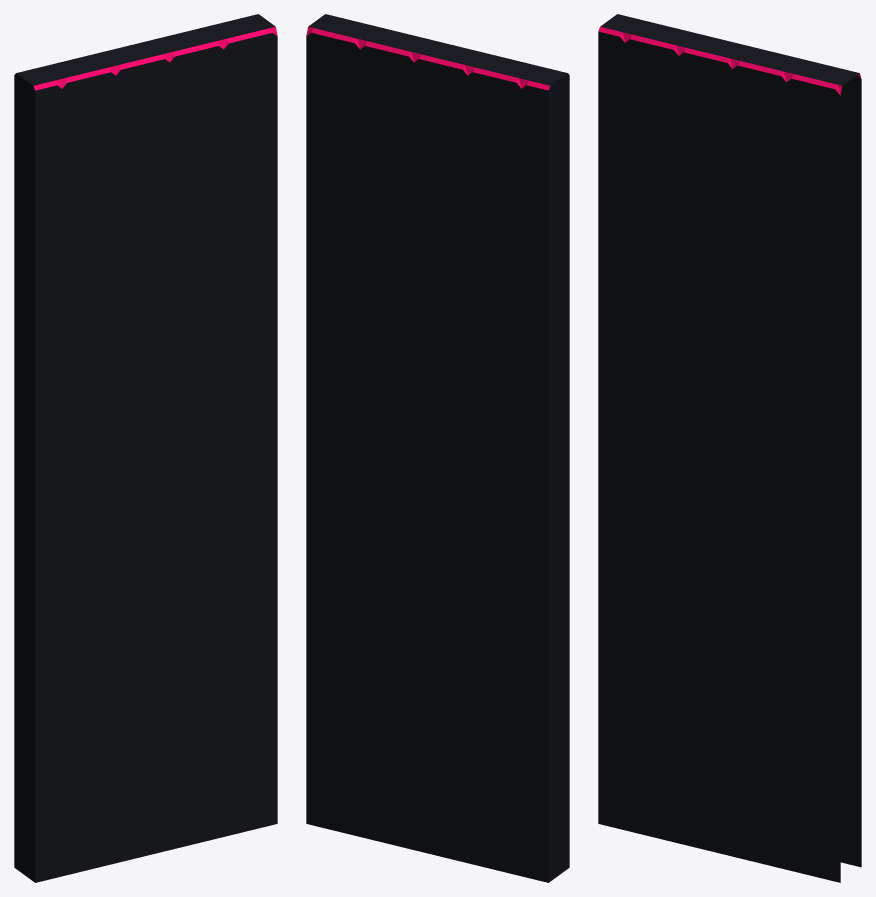
Rendered from test_wall_small.fbx.
The picture shows the model from 3 angles, left to right: view 1: azimuth 30°, elevation 25°; view 2: azimuth 150°, elevation 25°; view 3: azimuth 330°, elevation 25°; orthographic projection.
Visible parts, largest first — view 1: Cube.061; view 2: Cube.061; view 3: Cube.061.
Part boxes in pixels (bbox=[...]): Cube.061: bbox=[14, 14, 277, 882]; Cube.061: bbox=[306, 14, 569, 882]; Cube.061: bbox=[598, 14, 861, 882].
Size of the model in its own units: 1214 by 3809 by 184.
